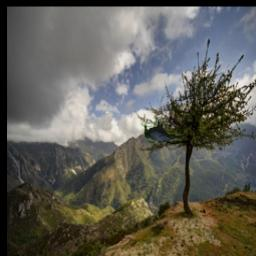Crow: (144, 117, 182, 141)
